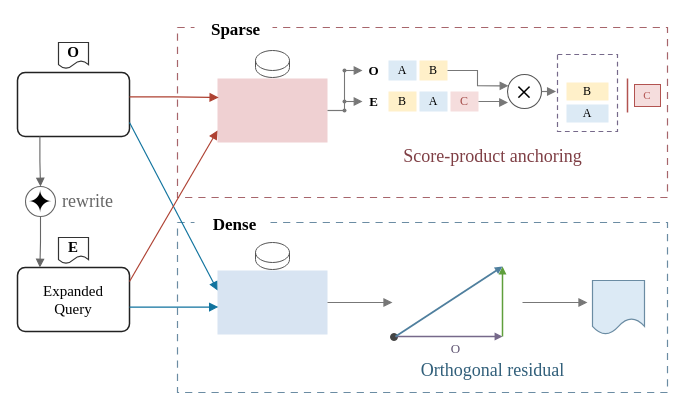
This 686x410 diagram has some shape labels left out. Here are the shapes that lost their labels. From the top down, the box of each, then its label:
(16, 71, 130, 137): Original Query
(217, 78, 327, 142): Sparse Retrieval
(556, 53, 618, 132): π S
(217, 270, 327, 334): Dense Retrieval
(591, 279, 645, 335): π D
